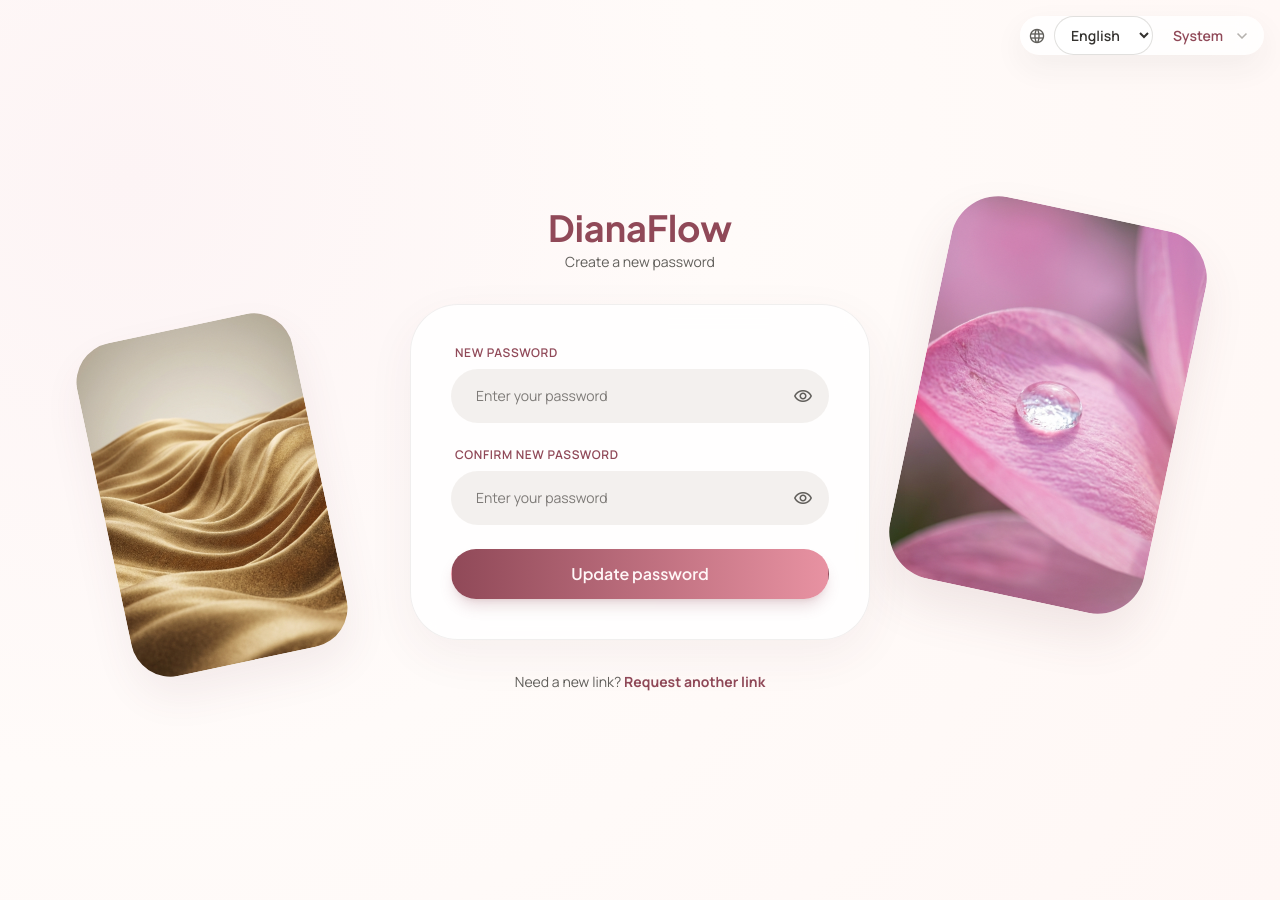
toggles reset password fields independently and preserves visibility on error
Type "SecurePassword1" into the password field labelled "New Password" at x=640, y=396, box left=451, top=369, right=829, bottom=423
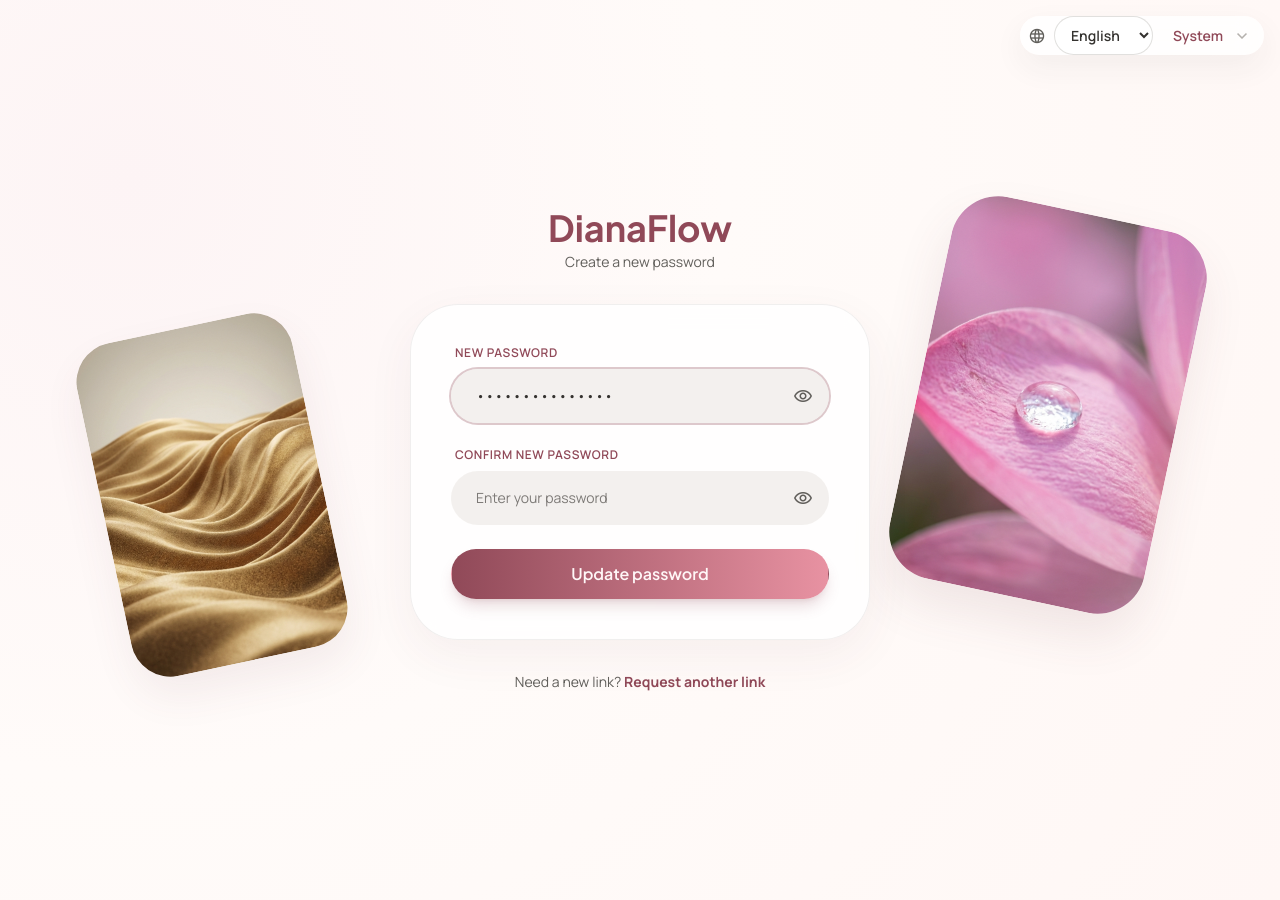
Type "SecurePassword1" into the password field labelled "Confirm New Password" at x=640, y=498, box left=451, top=471, right=829, bottom=525
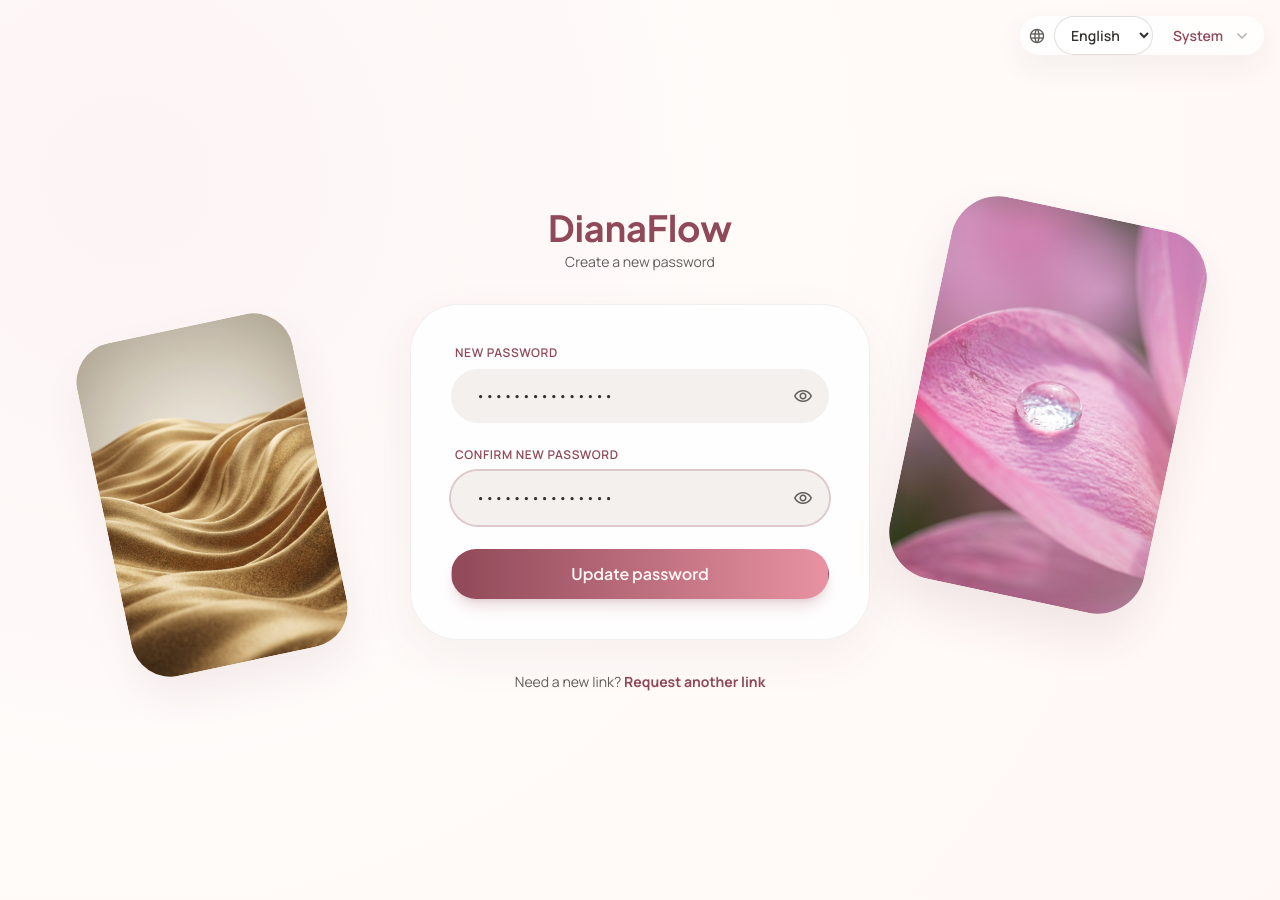
Click the 1st button named "Show password" at x=803, y=396, box left=781, top=374, right=825, bottom=418
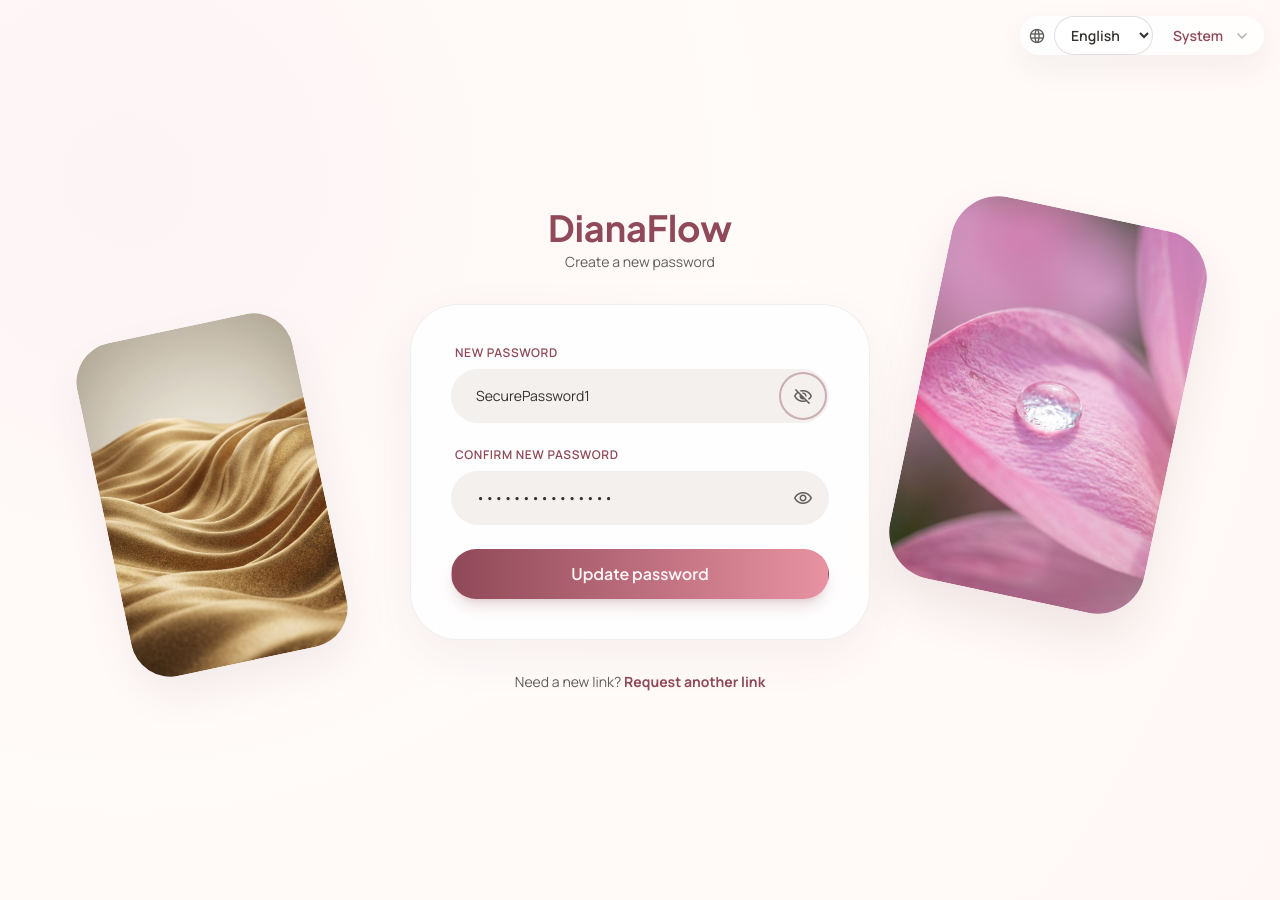
Result: the field labelled "New Password" shows its text at left=451, top=369, right=829, bottom=423
Click the button "Update password" at x=640, y=574, box left=451, top=549, right=829, bottom=599
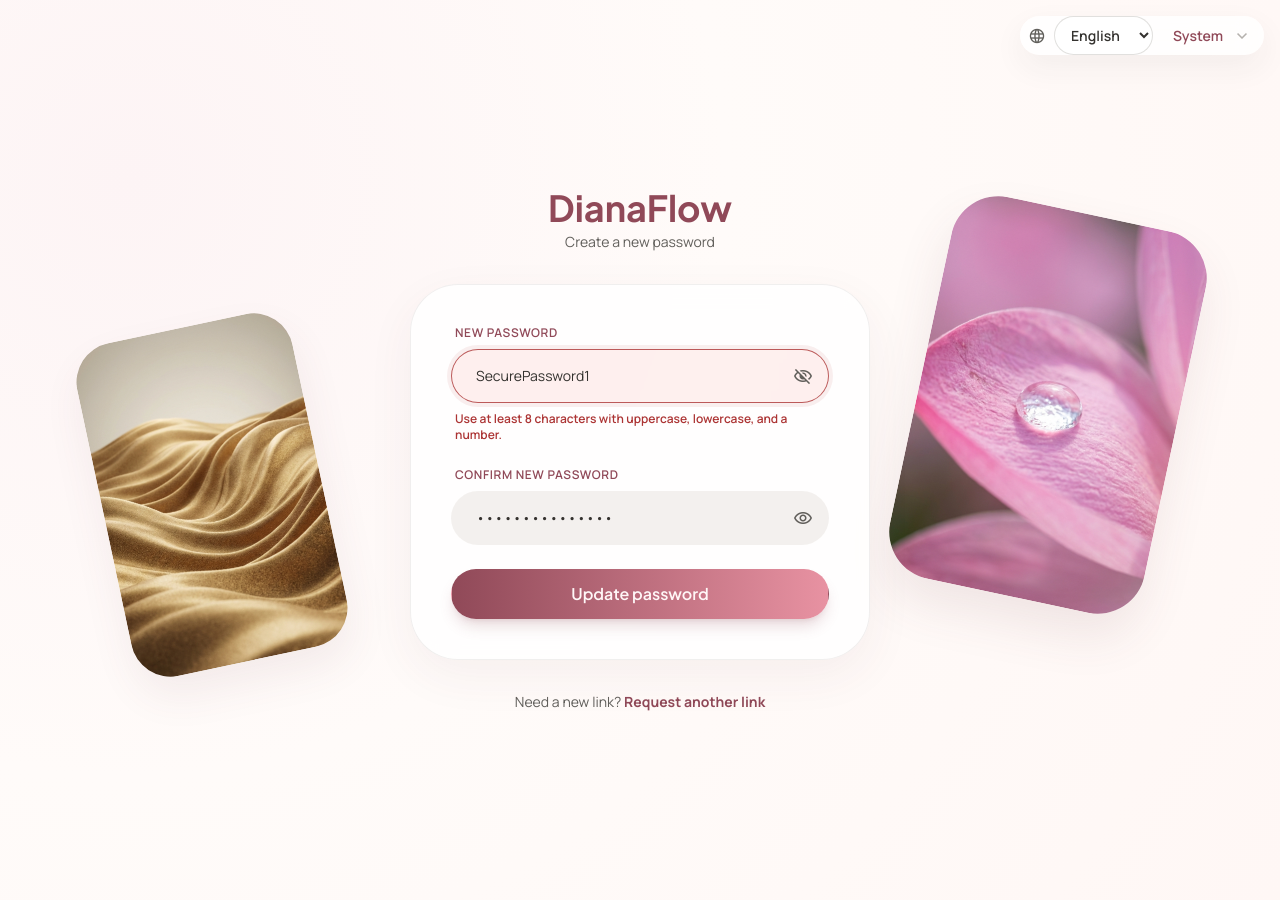
Result: the field labelled "New Password" shows its text at left=451, top=349, right=829, bottom=403
Result: the text "uppercase, lowercase" is shown at left=455, top=410, right=787, bottom=443
